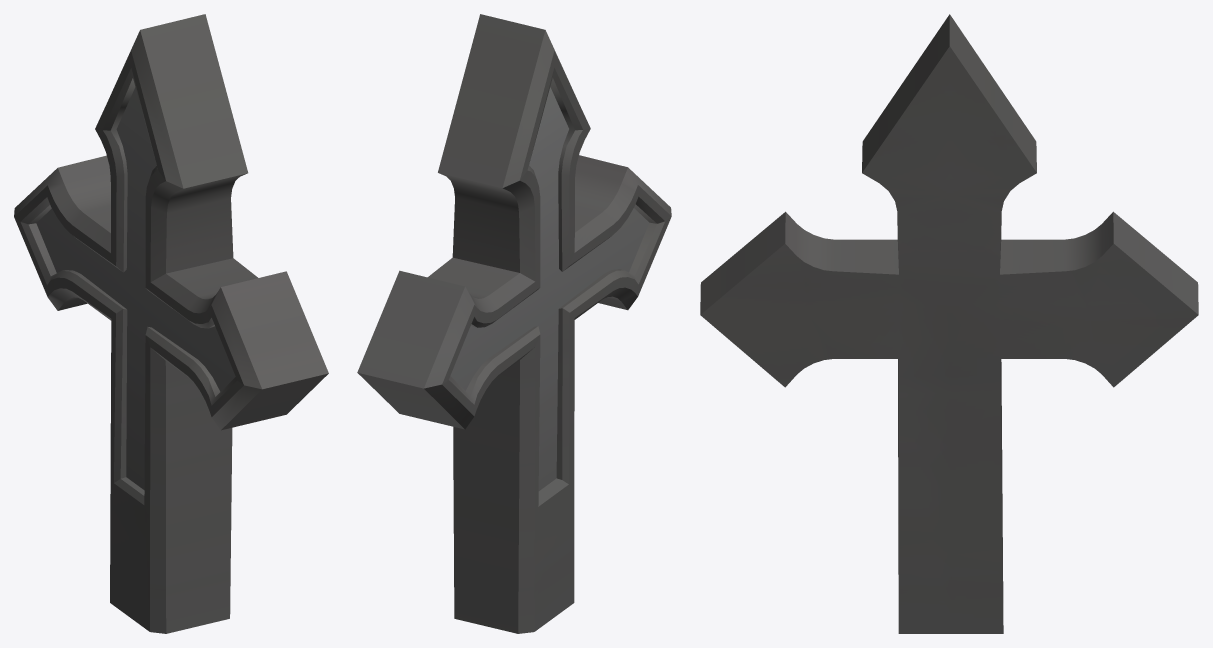
The model's file is Cross_6.glb.
3 views of the same model, side by side, from view 1: azimuth 30°, elevation 25°; view 2: azimuth 150°, elevation 25°; view 3: azimuth 270°, elevation 25° (orthographic).
Visible parts, largest first — view 1: Cross_6; view 2: Cross_6; view 3: Cross_6.
Boxes of the visible parts, left/top/right/bottom form: Cross_6: left=14, top=14, right=328, bottom=633; Cross_6: left=357, top=14, right=671, bottom=633; Cross_6: left=700, top=14, right=1198, bottom=633.
Bounding box in the file's own units: 0.1644 × 1.16 × 0.8896.
1 material, 1 textured.
